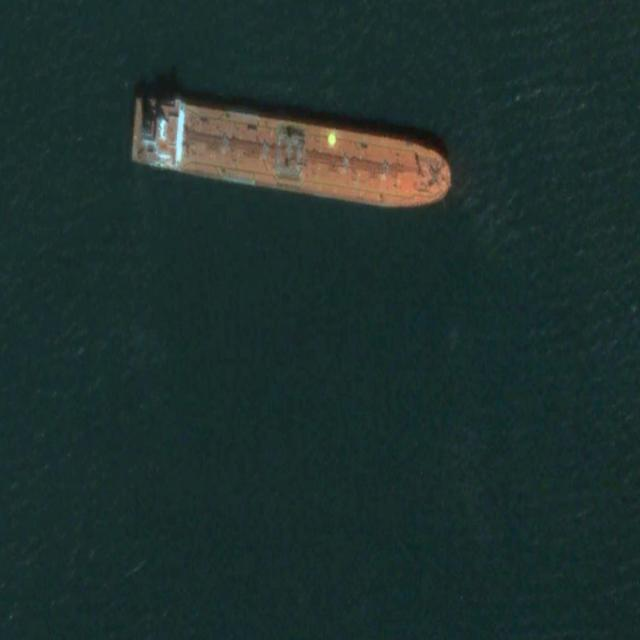Cargo: (130, 90, 454, 219)
